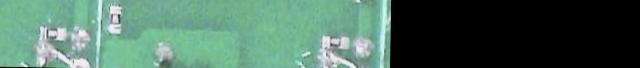chip-resistor: (108, 4, 120, 32), (321, 35, 348, 47), (39, 26, 65, 38)
